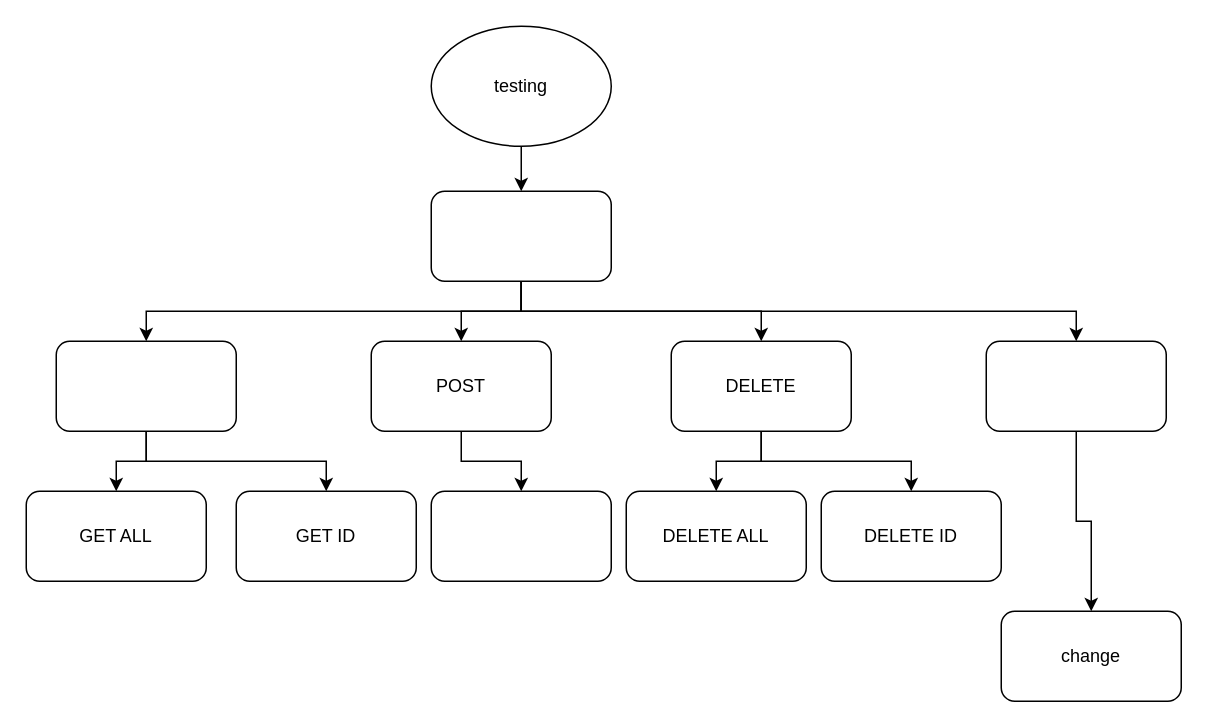
Image size: 1208x728. Some labels were removed from this diagram. The shapes that lost their labels are listed below. From the top down, each one's centre as x and y in pixels, then its label:
At point 520,235: "funshional".
At point 145,385: "GET".
At point 1075,385: "PUT".
At point 520,535: "create new".
